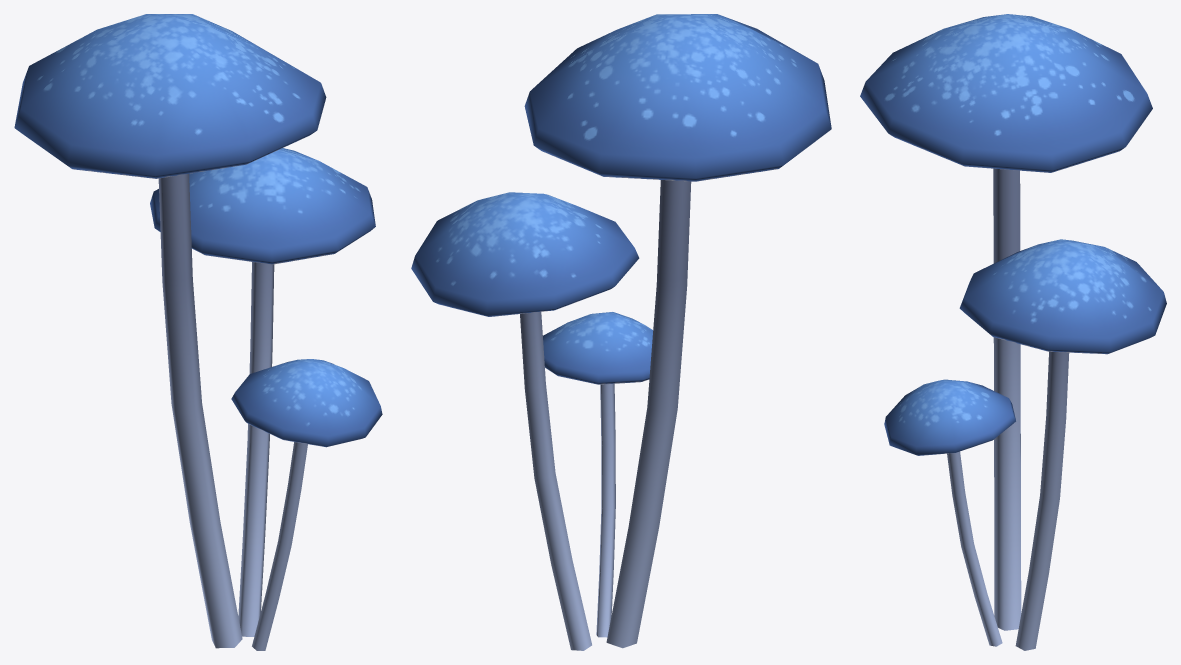
3 renders of one model, left to right at view 1: azimuth 30°, elevation 25°; view 2: azimuth 150°, elevation 25°; view 3: azimuth 270°, elevation 25°, orthographic. The views are drawn at different scales.
Visible parts, largest first — view 1: submesh_0; view 2: submesh_0; view 3: submesh_0.
Part boxes in pixels (bbox=[...]): submesh_0: bbox=[14, 14, 382, 650]; submesh_0: bbox=[411, 14, 831, 650]; submesh_0: bbox=[860, 14, 1166, 650].
Bounding box in the file's own units: 0.2205 × 0.3825 × 0.1818.
1 material, 1 textured.
